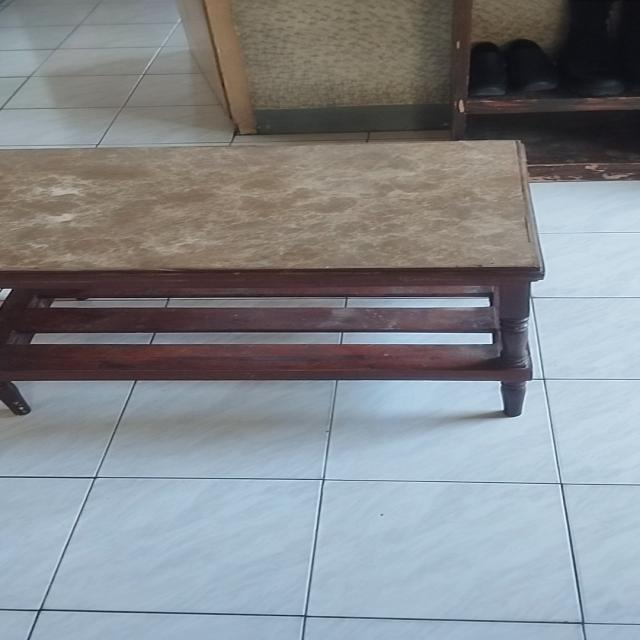table: (0, 141, 552, 433)
